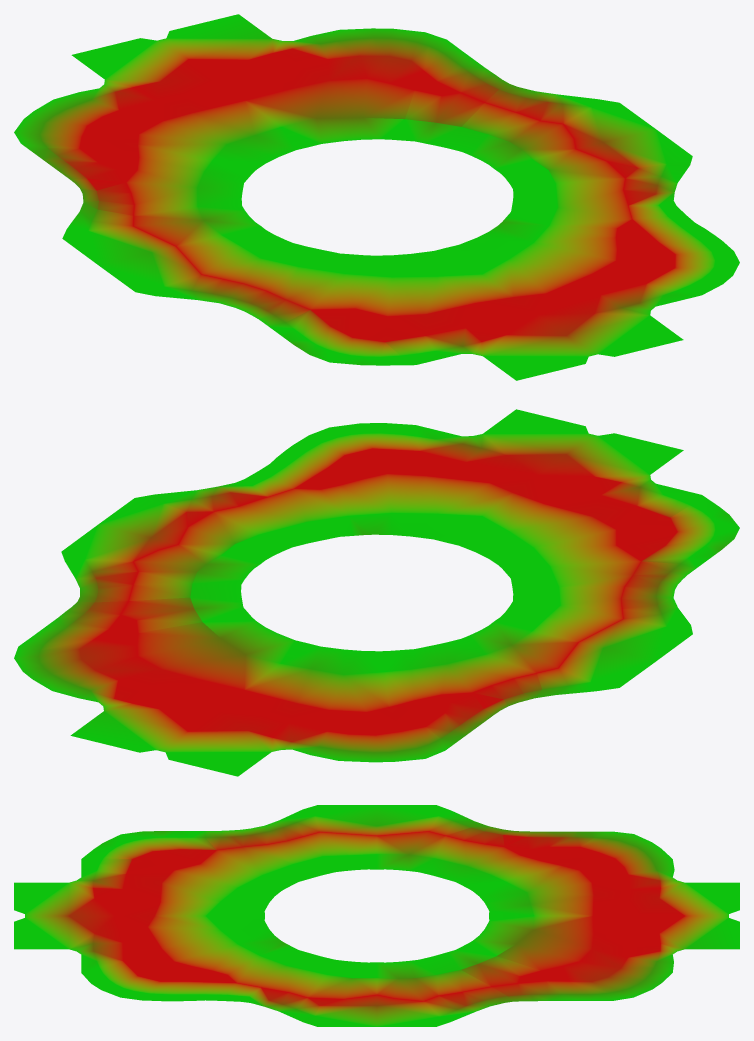
The model's file is pref_sm_beach_winter_icecenter_lv3.fbx.
3 views of the same model, one above another, from view 1: azimuth 30°, elevation 25°; view 2: azimuth 150°, elevation 25°; view 3: azimuth 270°, elevation 25° (orthographic). The views are drawn at different scales.
Parts seen in each view (by area): view 1: pref_sm_beach_winter_icecenter_lv3; view 2: pref_sm_beach_winter_icecenter_lv3; view 3: pref_sm_beach_winter_icecenter_lv3.
Boxes of the visible parts, x1,y1,x2,y2 form: pref_sm_beach_winter_icecenter_lv3: [14, 14, 739, 380]; pref_sm_beach_winter_icecenter_lv3: [14, 409, 739, 776]; pref_sm_beach_winter_icecenter_lv3: [14, 805, 739, 1026].
Size of the model in its own units: 24.22 by 0.000198 by 33.49.
